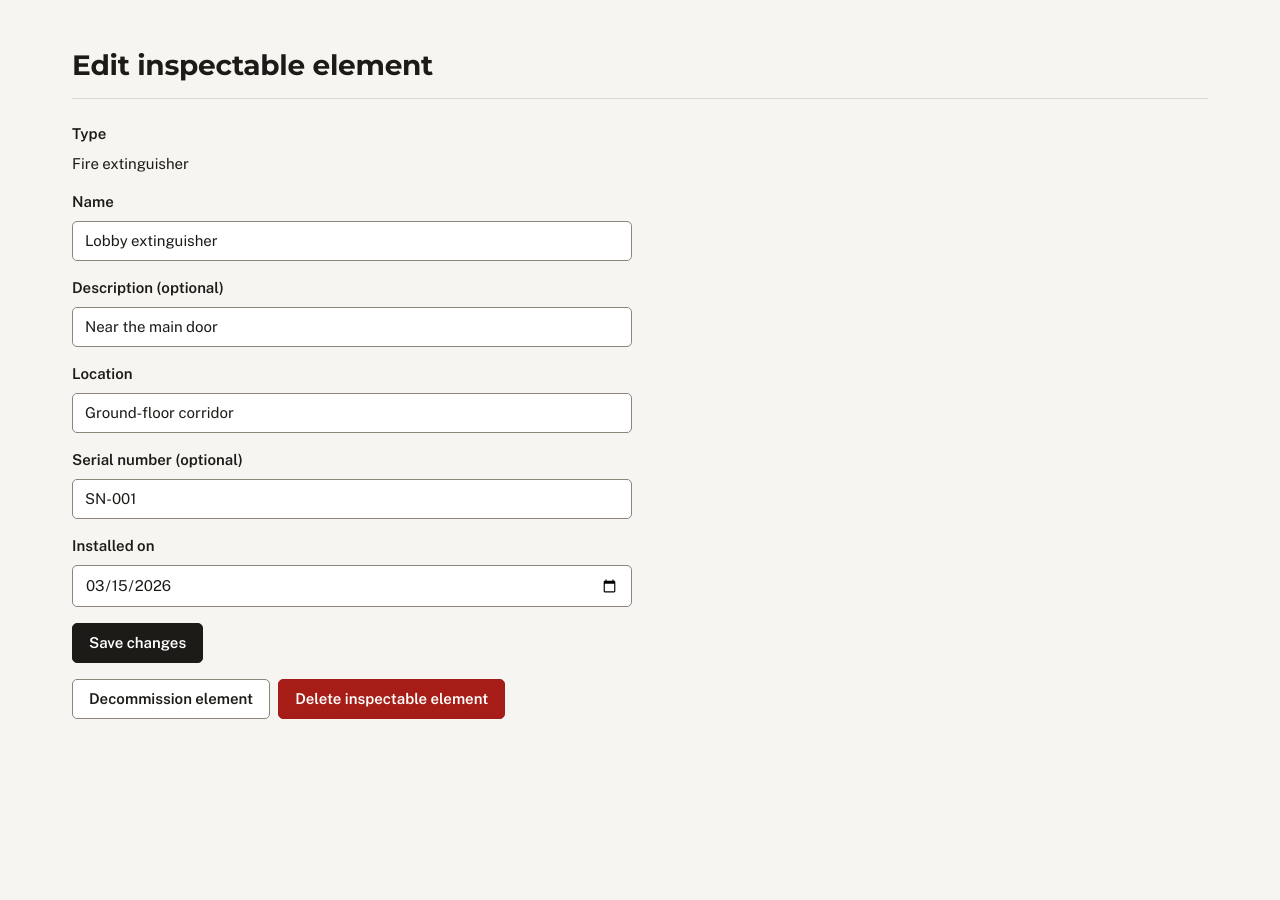
Test case: InspectableElementEditPage › shows a delete error distinct from the save error on a failed soft-delete
Click the button with test id "inspectable-element-edit-delete". click: click(392, 699)
box: [278,679,505,719]
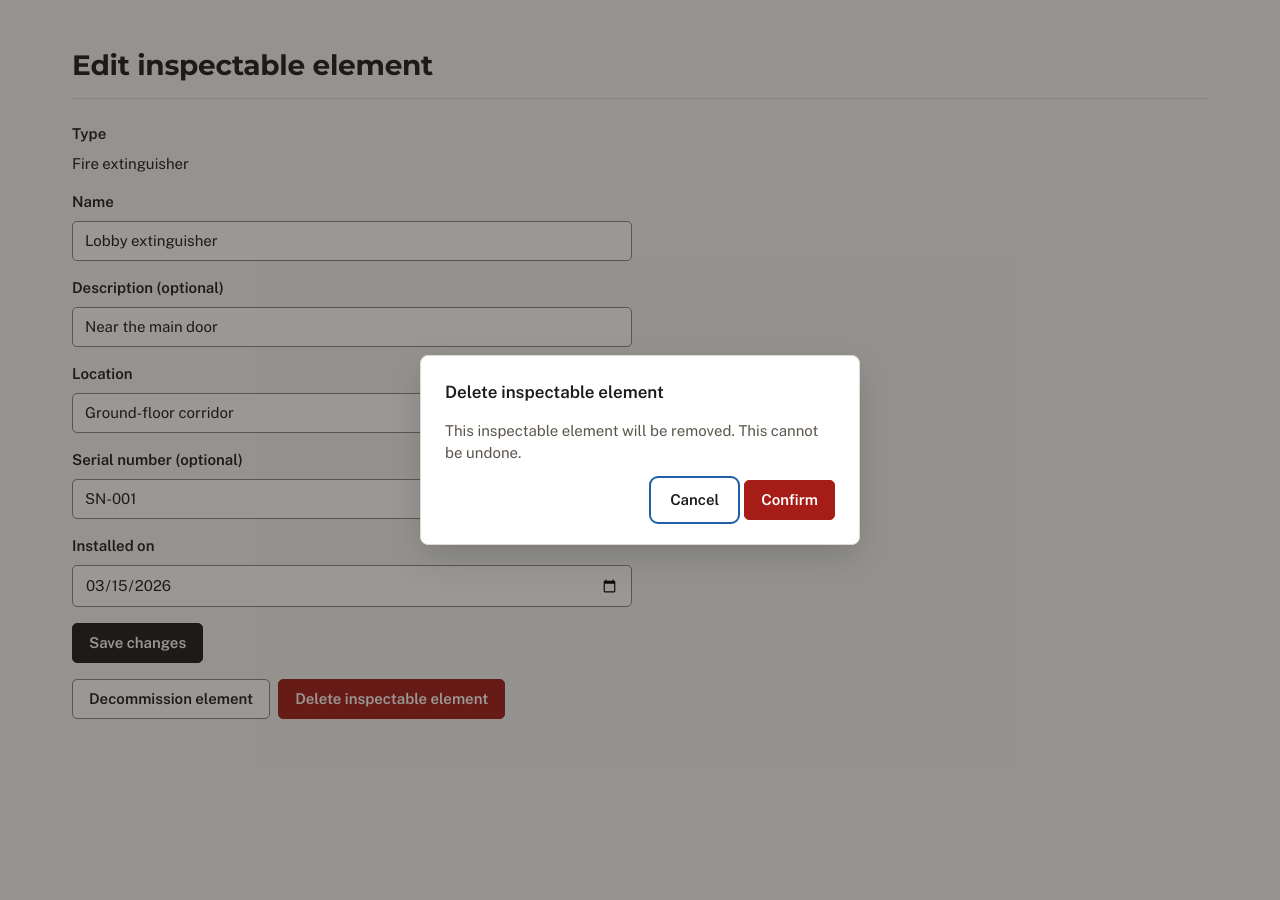
Click the button with test id "confirm-dialog-confirm". click: click(790, 500)
box: [744,480,835,520]
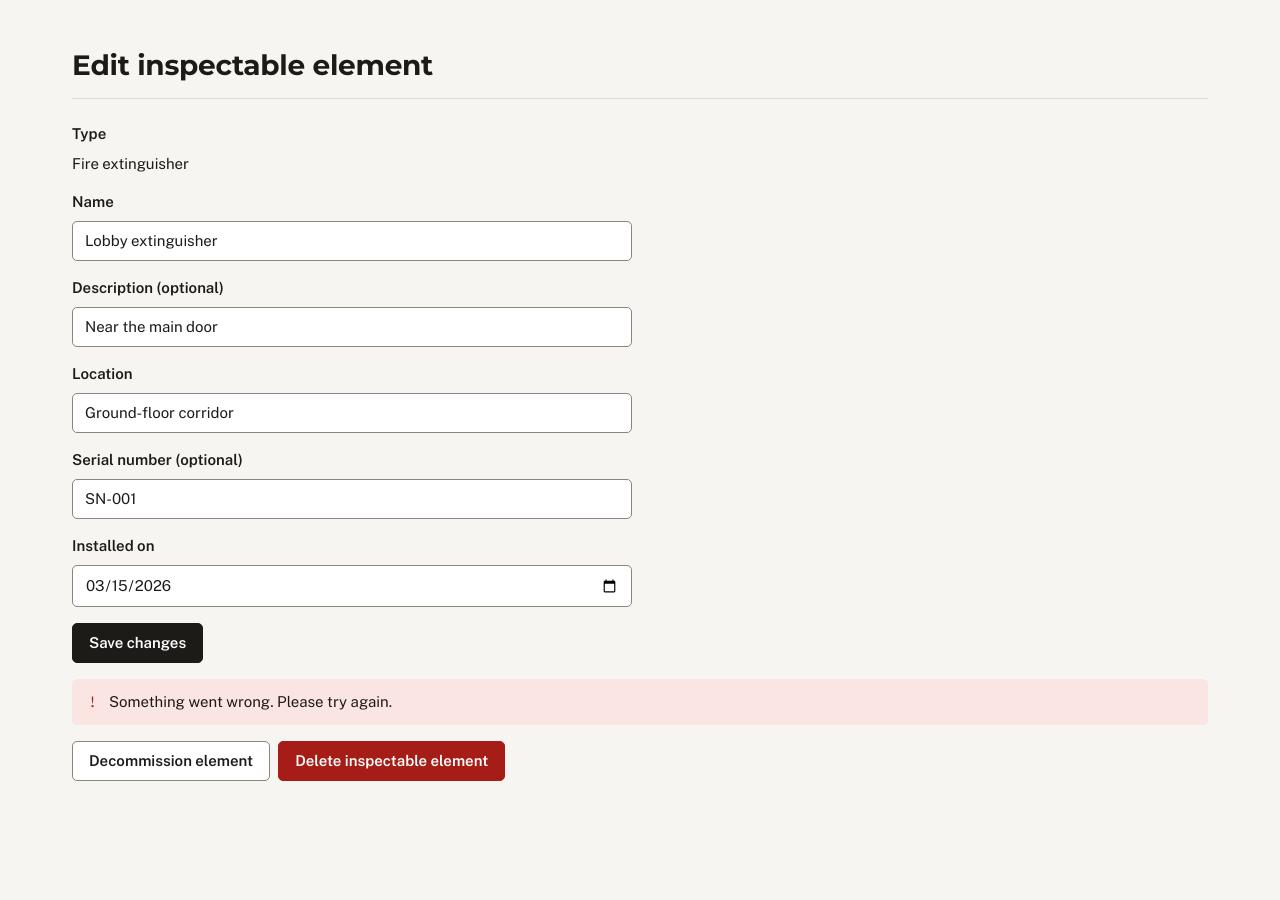
Result: the message "! Something went wrong. Please try again." is shown at [72,679,1208,725]
